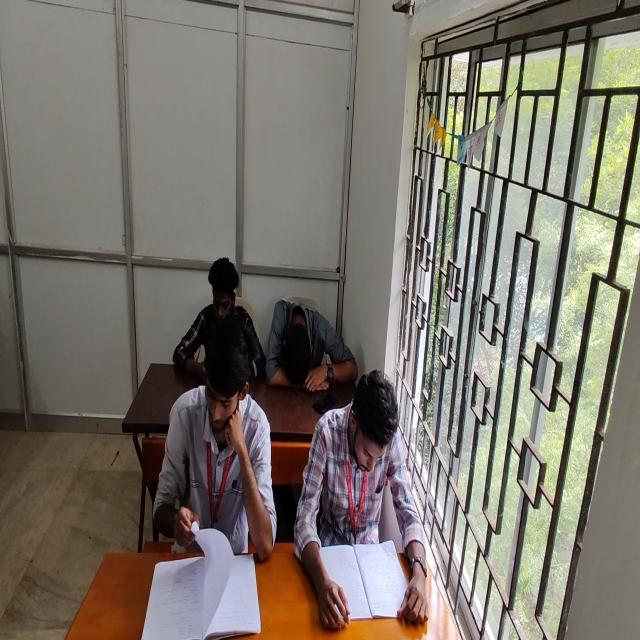reading: (296, 368, 418, 634), (154, 314, 277, 566)
sleeping: (264, 299, 355, 393)
using_mobile: (172, 257, 266, 383)
